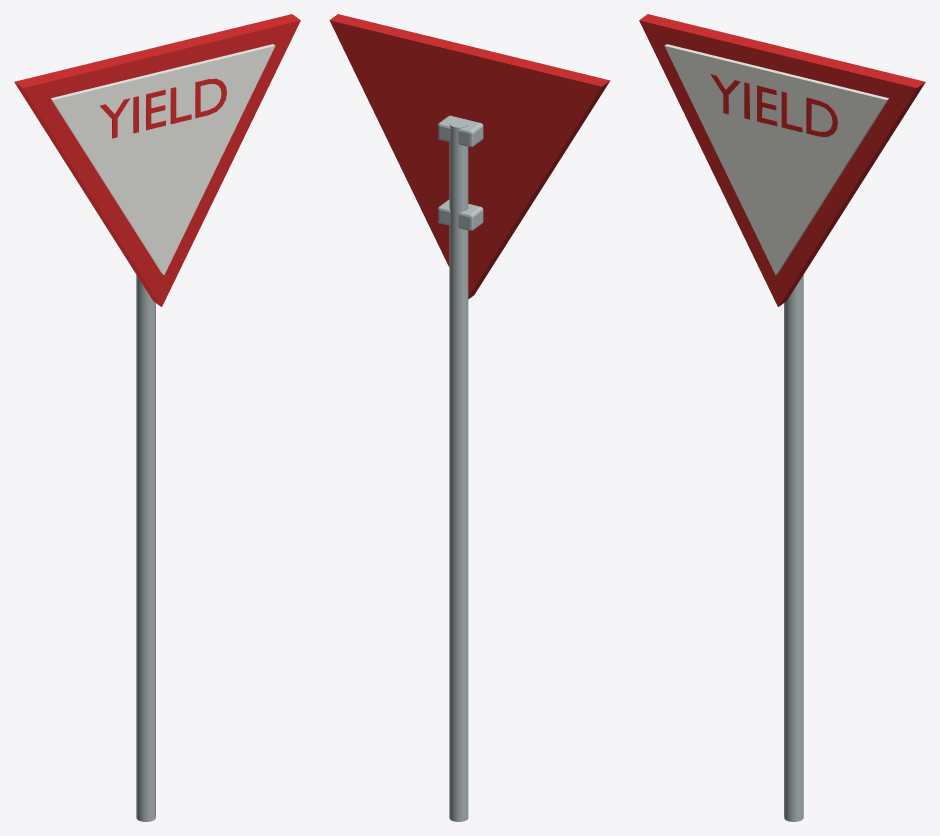
The model's file is yield_sign.glb.
3 renders of one model, left to right at view 1: azimuth 30°, elevation 25°; view 2: azimuth 150°, elevation 25°; view 3: azimuth 330°, elevation 25°, orthographic. The views are drawn at different scales.
Parts seen in each view (by area): view 1: Yield sign raised white inset, Yield sign closed red triangle, Yield sign galvanized upright pole, Yield sign YIELD lettering; view 2: Yield sign closed red triangle, Yield sign galvanized upright pole, Yield sign rear pole bracket.001, Yield sign rear pole bracket; view 3: Yield sign raised white inset, Yield sign closed red triangle, Yield sign galvanized upright pole, Yield sign YIELD lettering.
Boxes of the visible parts, left/top/right/bottom form: Yield sign raised white inset: left=51, top=44, right=275, bottom=274; Yield sign closed red triangle: left=14, top=14, right=300, bottom=306; Yield sign galvanized upright pole: left=136, top=275, right=155, bottom=821; Yield sign YIELD lettering: left=100, top=78, right=226, bottom=138; Yield sign closed red triangle: left=329, top=14, right=610, bottom=299; Yield sign galvanized upright pole: left=449, top=119, right=468, bottom=821; Yield sign rear pole bracket.001: left=438, top=115, right=483, bottom=147; Yield sign rear pole bracket: left=438, top=199, right=483, bottom=230; Yield sign raised white inset: left=664, top=44, right=888, bottom=274; Yield sign closed red triangle: left=639, top=14, right=925, bottom=306; Yield sign galvanized upright pole: left=784, top=275, right=803, bottom=821; Yield sign YIELD lettering: left=710, top=74, right=837, bottom=136.
Bounding box in the file's own units: 0.92 × 2.45 × 0.1343.
